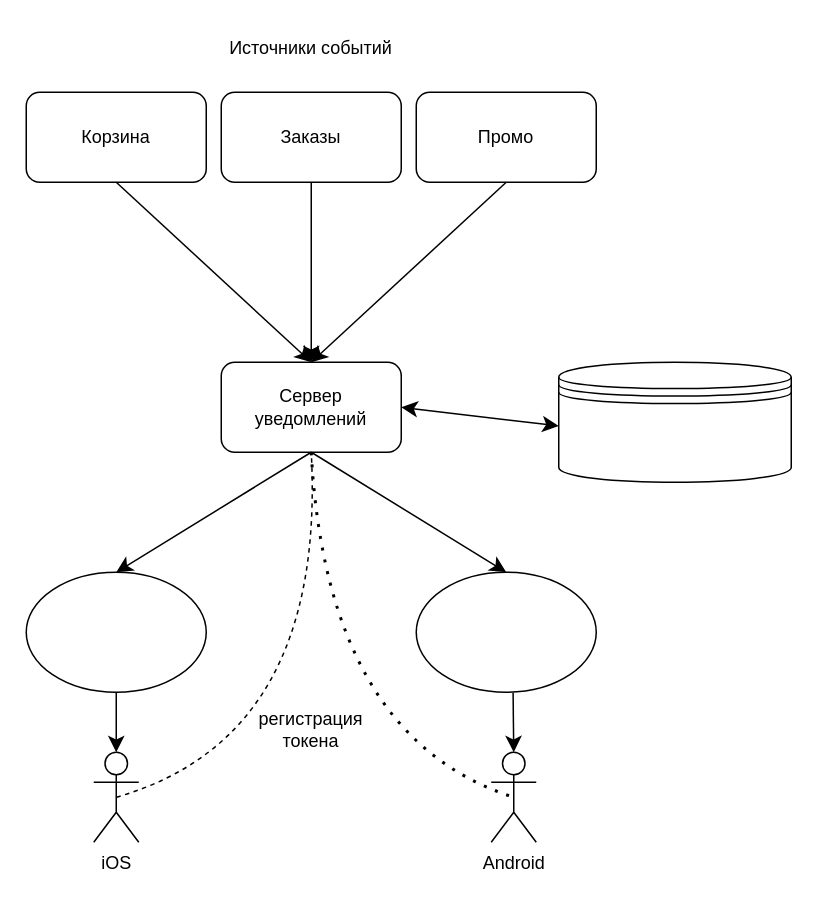
Some shapes in this 825 by 899 pixel diagram are drawn without their labels. The shapes that lost their labels are listed below. From the top down, each one's centre as x and y in pixels, then its label:
At point 674,421: "База данных с токенами(уникальный код телефона)".
At point 115,631: "APNs".
At point 505,631: "FCM".
